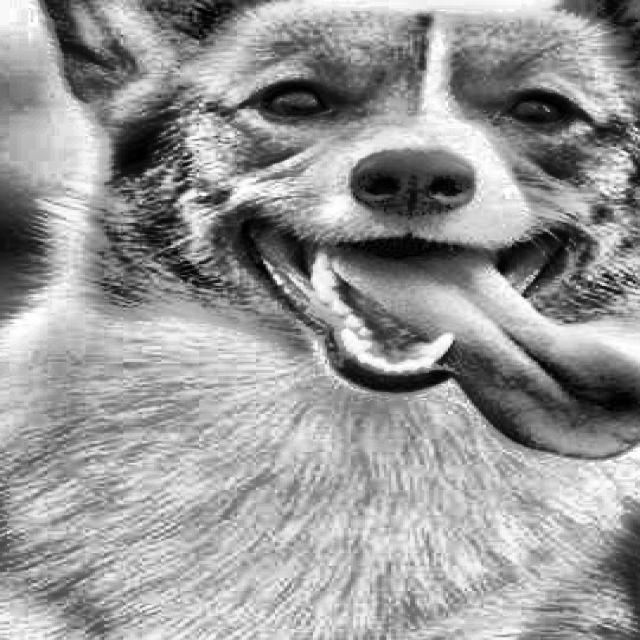dog: (0, 0, 640, 640), (0, 0, 17, 640)
